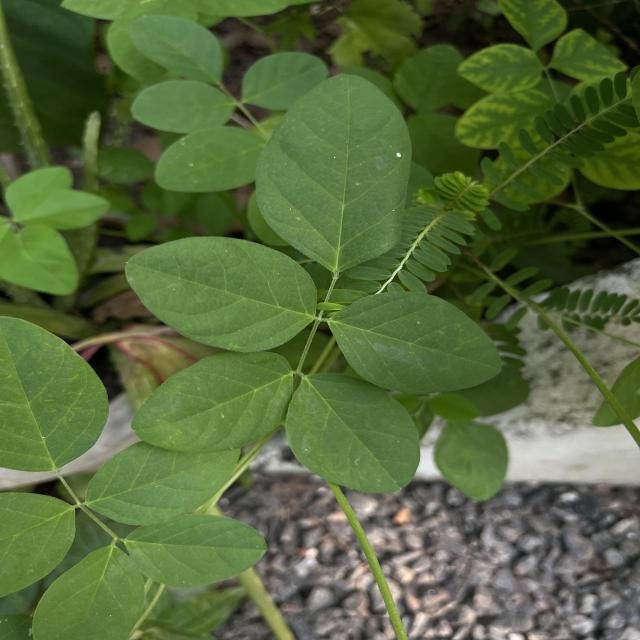Clitoria ternatea: (253, 72, 415, 276), (123, 234, 320, 354), (324, 289, 504, 396), (130, 350, 296, 454), (284, 372, 423, 496)
